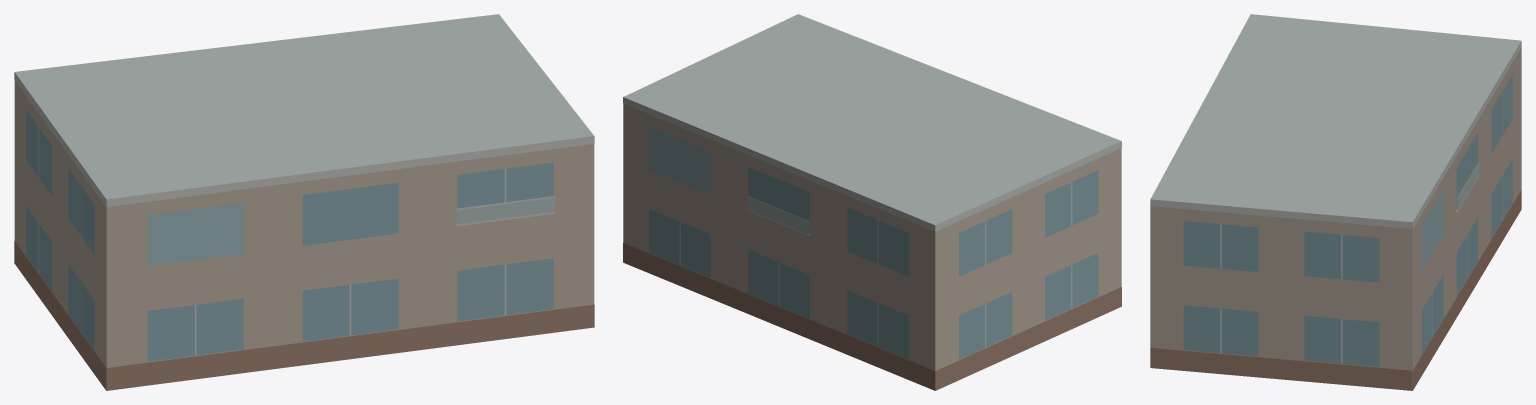
The model's file is survey-upis-32871070.glb.
3 renders of one model, left to right at view 1: azimuth 30°, elevation 25°; view 2: azimuth 150°, elevation 25°; view 3: azimuth 270°, elevation 25°, orthographic. The views are drawn at different scales.
Parts seen in each view (by area): view 1: survey-upis-32871070.tmp; view 2: survey-upis-32871070.tmp; view 3: survey-upis-32871070.tmp.
Part boxes in pixels (x1,y1,x2,y2): survey-upis-32871070.tmp: (14,14,594,390); survey-upis-32871070.tmp: (623,14,1121,390); survey-upis-32871070.tmp: (1150,14,1521,390).
Size of the model in its own units: 16.17 by 6.1 by 12.19.
